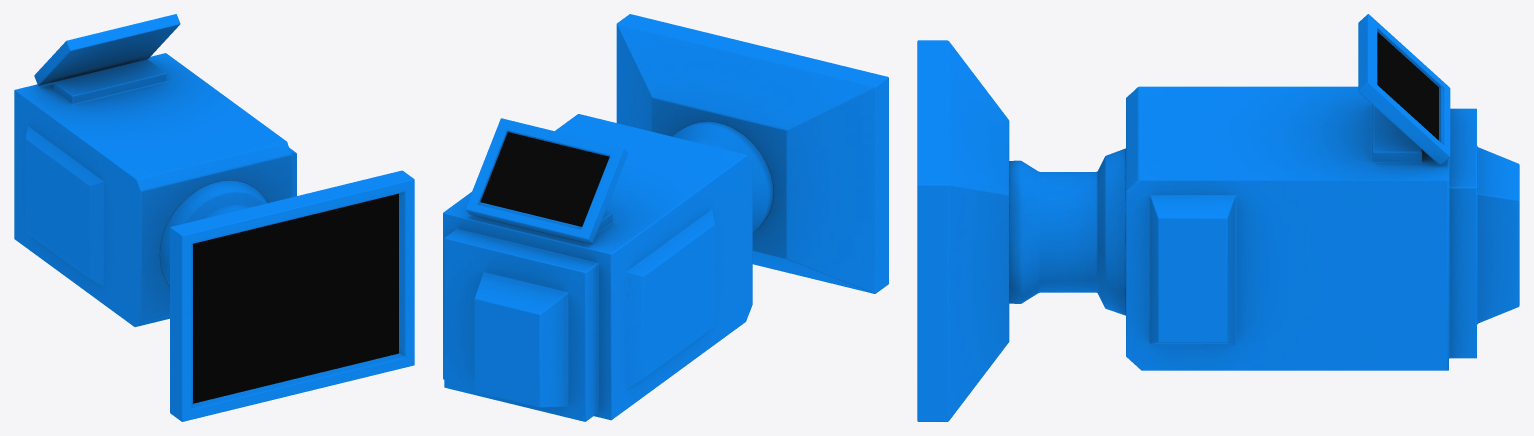
The model's file is camera_blue_4.glb.
The picture shows the model from 3 angles, left to right: view 1: azimuth 30°, elevation 25°; view 2: azimuth 150°, elevation 25°; view 3: azimuth 270°, elevation 25°; orthographic projection. The views are drawn at different scales.
Parts seen in each view (by area): view 1: Cam.Helper; view 2: Cam.Helper; view 3: Cam.Helper.
Boxes of the visible parts, x1,y1,x2,y2 form: Cam.Helper: (14,14,414,421); Cam.Helper: (443,14,888,421); Cam.Helper: (917,14,1519,421).
Size of the model in its own units: 0.3085 by 0.3 by 0.5423.
2 materials, 1 textured.
